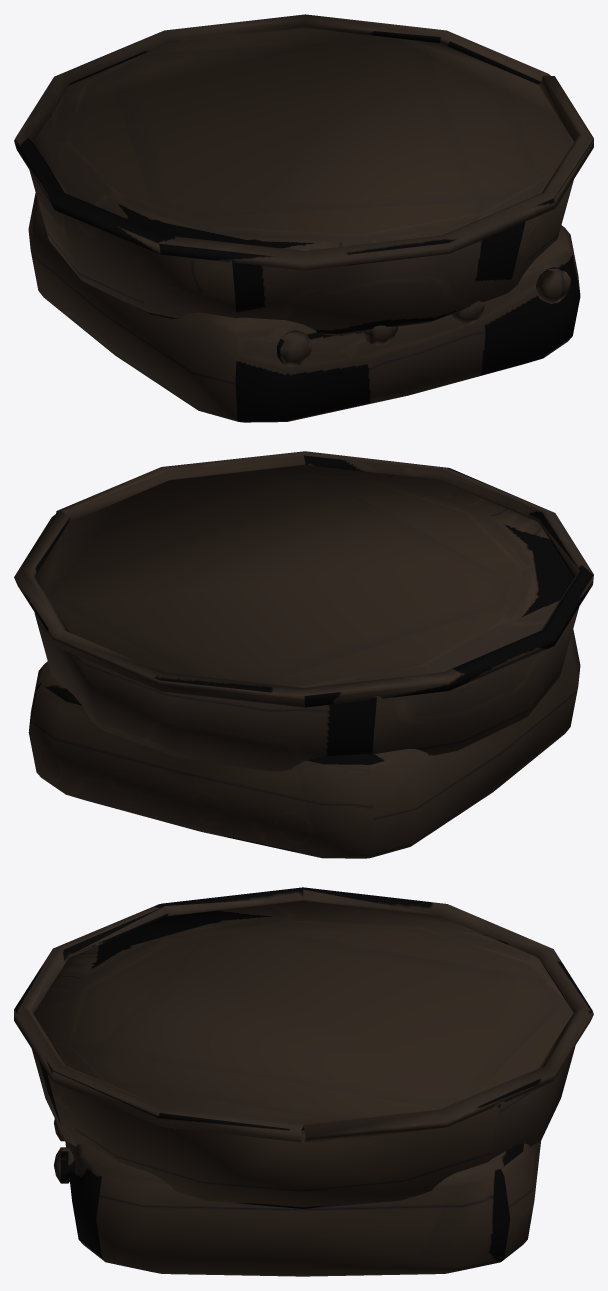
File: Albatros_GuanteIzq.fbx
3 views of the same model, one above another, from view 1: azimuth 30°, elevation 25°; view 2: azimuth 150°, elevation 25°; view 3: azimuth 270°, elevation 25° (orthographic).
Visible parts, largest first — view 1: Albatros_GuanteIzq; view 2: Albatros_GuanteIzq; view 3: Albatros_GuanteIzq.
Part boxes in pixels (<box>): Albatros_GuanteIzq: <box>14,14,593,422</box>; Albatros_GuanteIzq: <box>14,451,593,858</box>; Albatros_GuanteIzq: <box>14,887,593,1276</box>.
Size of the model in its own units: 1.72 by 0.6363 by 1.72.
